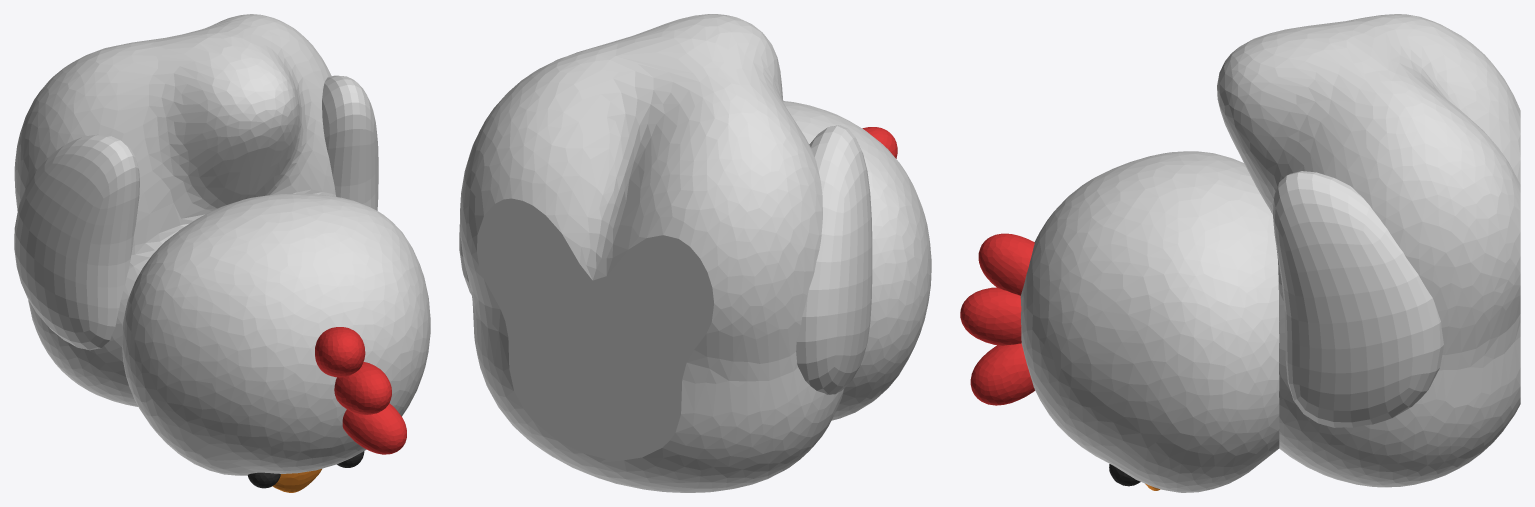
Rendered from chicken.glb.
The picture shows the model from 3 angles, left to right: view 1: azimuth 30°, elevation 25°; view 2: azimuth 150°, elevation 25°; view 3: azimuth 270°, elevation 25°; orthographic projection. The views are drawn at different scales.
Visible parts, largest first — view 1: Cube.715, Cube.002, Cube.001; view 2: Cube.715, Cube.002; view 3: Cube.715, Cube.002, Cube.001.
Part boxes in pixels (x1,y1,x2,y2): Cube.715: (14, 14, 430, 475); Cube.002: (14, 75, 378, 350); Cube.001: (247, 327, 406, 492); Cube.715: (460, 14, 931, 492); Cube.002: (459, 125, 872, 394); Cube.715: (1020, 14, 1520, 492); Cube.002: (1273, 171, 1443, 427); Cube.001: (960, 233, 1160, 490).
Bounding box in the file's own units: 17.2 × 19.33 × 21.66.
